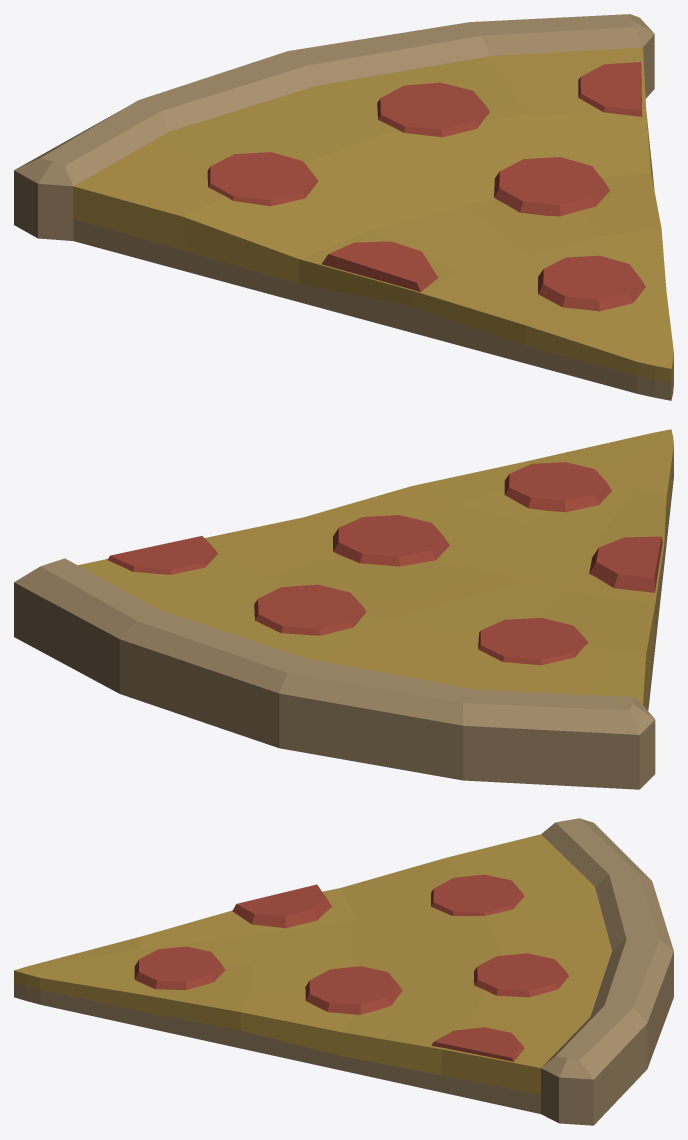
Rendered from ingredient_pizza_slice.glb.
3 views of the same model, one above another, from view 1: azimuth 30°, elevation 25°; view 2: azimuth 150°, elevation 25°; view 3: azimuth 270°, elevation 25° (orthographic). The views are drawn at different scales.
Visible parts, largest first — view 1: Pizza_Slice_Cube.003; view 2: Pizza_Slice_Cube.003; view 3: Pizza_Slice_Cube.003.
Part boxes in pixels (x1=…): Pizza_Slice_Cube.003: x1=14, y1=14, x2=673, y2=400; Pizza_Slice_Cube.003: x1=14, y1=429, x2=673, y2=789; Pizza_Slice_Cube.003: x1=14, y1=818, x2=673, y2=1125.
Size of the model in its own units: 1.07 by 0.1128 by 1.16.
